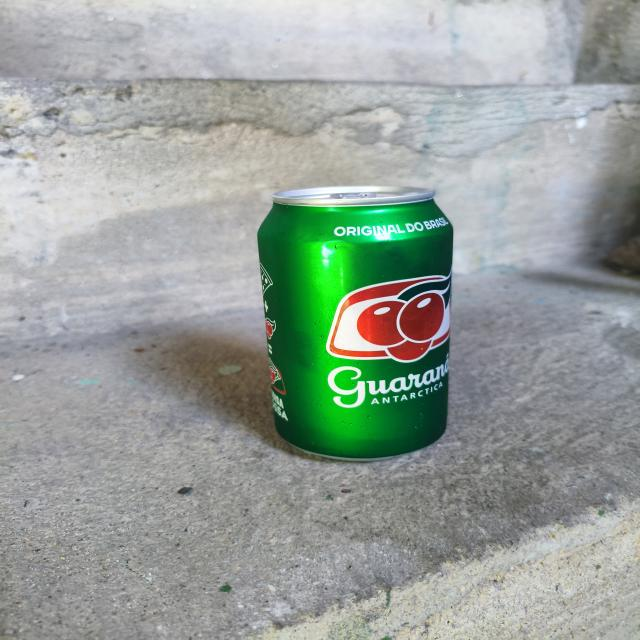Guarana: (249, 172, 461, 464)
